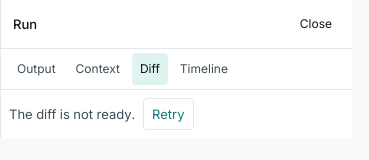
RunPanel context tab › retries a diff that was not ready
The image size is (369, 160).
Click the button "Retry" at (168, 114), box [143, 98, 194, 130]
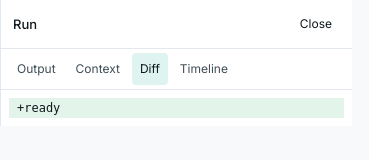
Now the text "+ready" is shown, box [9, 98, 344, 118]
